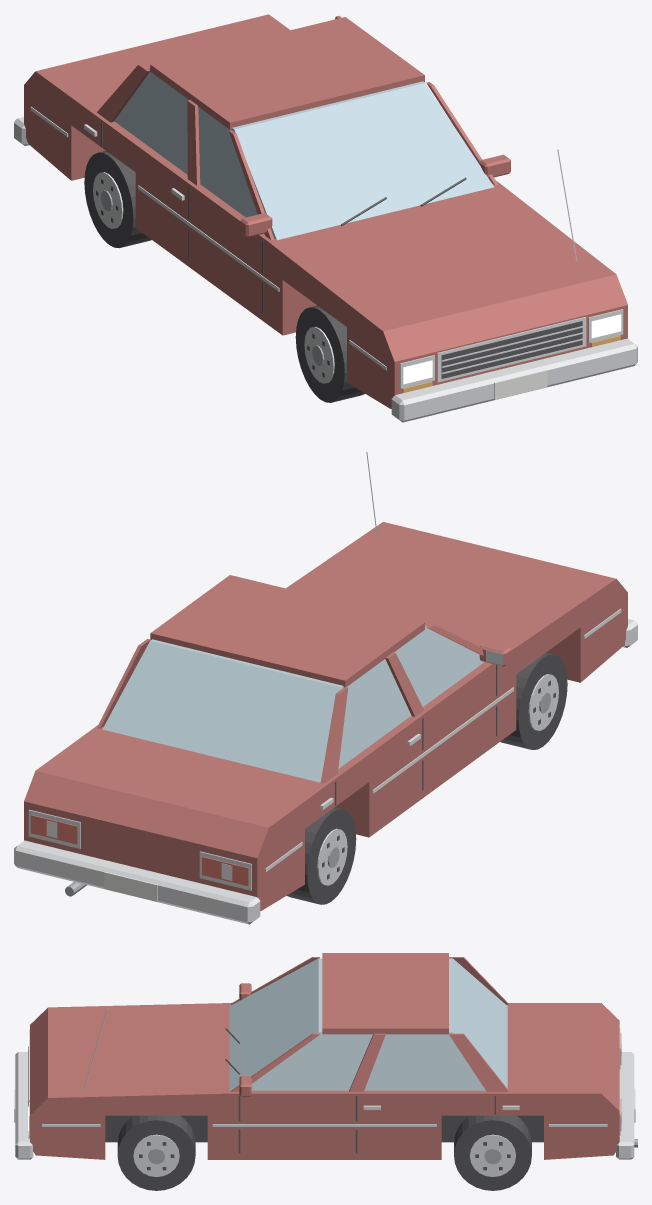
The model's file is car_sedan_r.glb.
3 renders of one model, top to bottom at view 1: azimuth 30°, elevation 25°; view 2: azimuth 150°, elevation 25°; view 3: azimuth 270°, elevation 25°, orthographic. The views are drawn at different scales.
Visible parts, largest first — view 1: car_sedan_r_car_r, car_sedan_r_glass, car_sedan_r_chrome, car_sedan_r_rubber, car_sedan_r_dark, car_sedan_r_lamp_glass, car_sedan_r_paint_w; view 2: car_sedan_r_car_r, car_sedan_r_glass, car_sedan_r_chrome, car_sedan_r_rubber, car_sedan_r_neon_r, car_sedan_r_paint_w; view 3: car_sedan_r_car_r, car_sedan_r_glass, car_sedan_r_rubber, car_sedan_r_chrome, car_sedan_r_dark, car_sedan_r_steel.
Boxes of the visible parts, bbox=[...] form: car_sedan_r_car_r: bbox=[24, 14, 627, 408]; car_sedan_r_glass: bbox=[114, 68, 493, 240]; car_sedan_r_chrome: bbox=[14, 106, 637, 422]; car_sedan_r_rubber: bbox=[84, 150, 364, 402]; car_sedan_r_dark: bbox=[96, 122, 582, 378]; car_sedan_r_lamp_glass: bbox=[403, 314, 621, 384]; car_sedan_r_paint_w: bbox=[494, 370, 547, 399]; car_sedan_r_car_r: bbox=[24, 522, 627, 910]; car_sedan_r_glass: bbox=[102, 626, 483, 782]; car_sedan_r_chrome: bbox=[14, 451, 637, 924]; car_sedan_r_rubber: bbox=[287, 652, 567, 904]; car_sedan_r_neon_r: bbox=[30, 815, 248, 886]; car_sedan_r_paint_w: bbox=[46, 820, 232, 901]; car_sedan_r_car_r: bbox=[30, 953, 619, 1159]; car_sedan_r_glass: bbox=[229, 958, 507, 1090]; car_sedan_r_rubber: bbox=[105, 1115, 543, 1190]; car_sedan_r_chrome: bbox=[15, 1008, 634, 1176]; car_sedan_r_dark: bbox=[28, 1028, 510, 1170]; car_sedan_r_steel: bbox=[148, 1139, 637, 1164].
Size of the model in its own units: 2 by 1.6 by 5.12.
